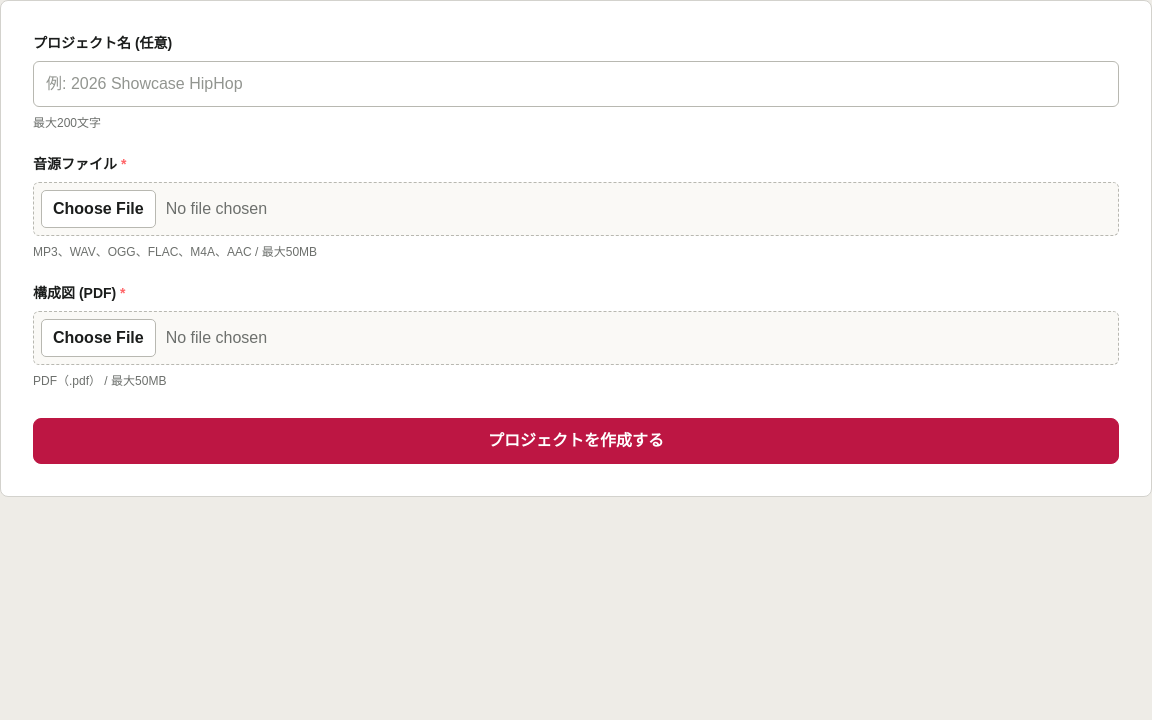
Scenario: ProjectForm validation accessibility › shows required errors near fields and preserves typed title
In the field with id "title": (576, 84) [33,61,1119,107], type "練習用プロジェクト"
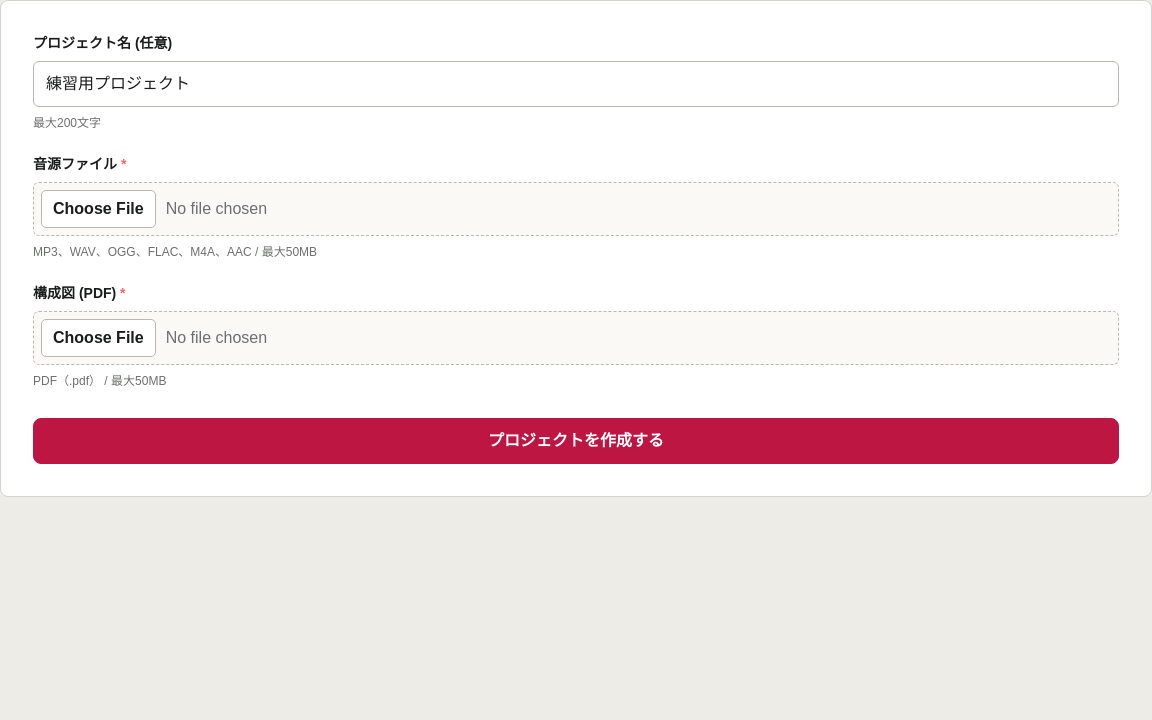
Submit the form
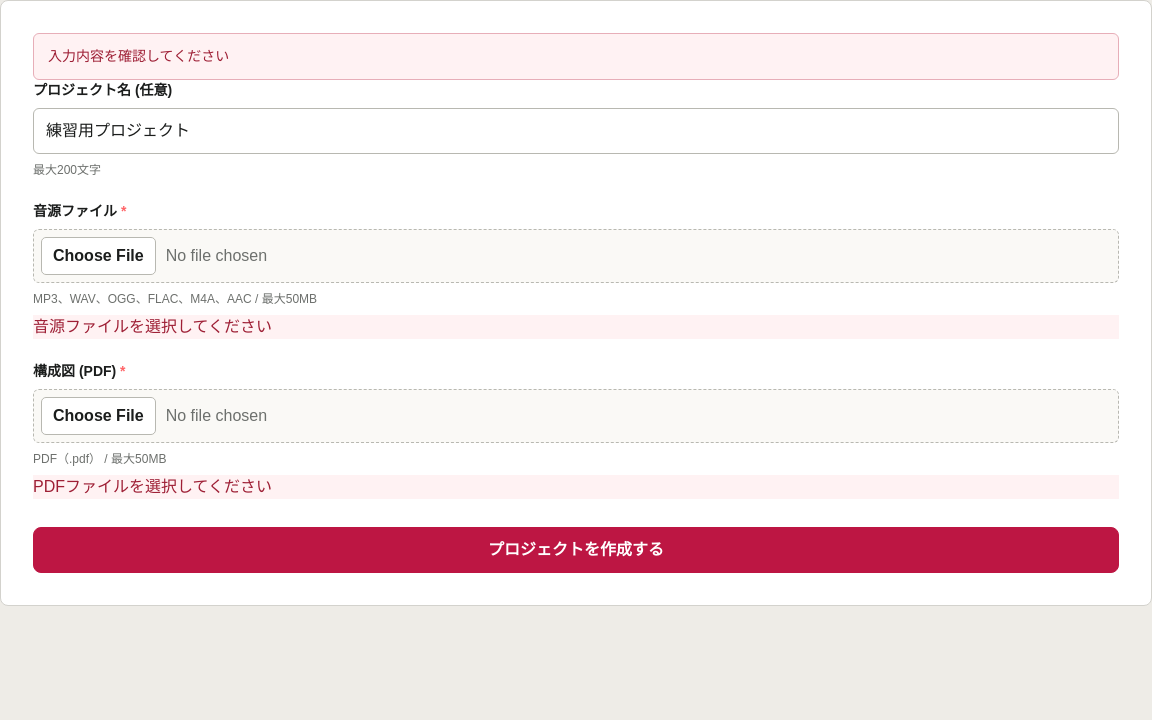
Result: the message with id "audio-error" shows "音源ファイルを選択" at [33,318,272,335]
Result: the message "PDFファイルを選択してください" is shown at [33,475,1119,499]
